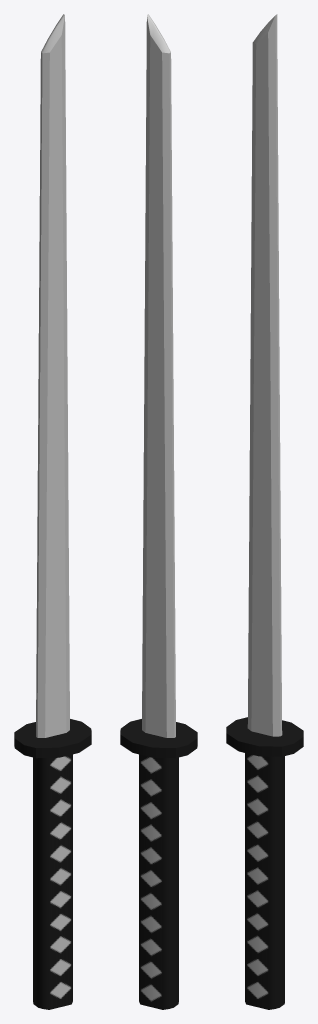
File: sword.fbx
3 views of the same model, side by side, from view 1: azimuth 30°, elevation 25°; view 2: azimuth 150°, elevation 25°; view 3: azimuth 330°, elevation 25° (orthographic).
Visible parts, largest first — view 1: pCube1; view 2: pCube1; view 3: pCube1.
Boxes of the visible parts, box(x1,y1,x2,y2) form: pCube1: box(14, 14, 91, 1009); pCube1: box(120, 14, 197, 1009); pCube1: box(226, 14, 303, 1009).
Size of the model in its own units: 0.4147 by 5.8 by 0.3442.
